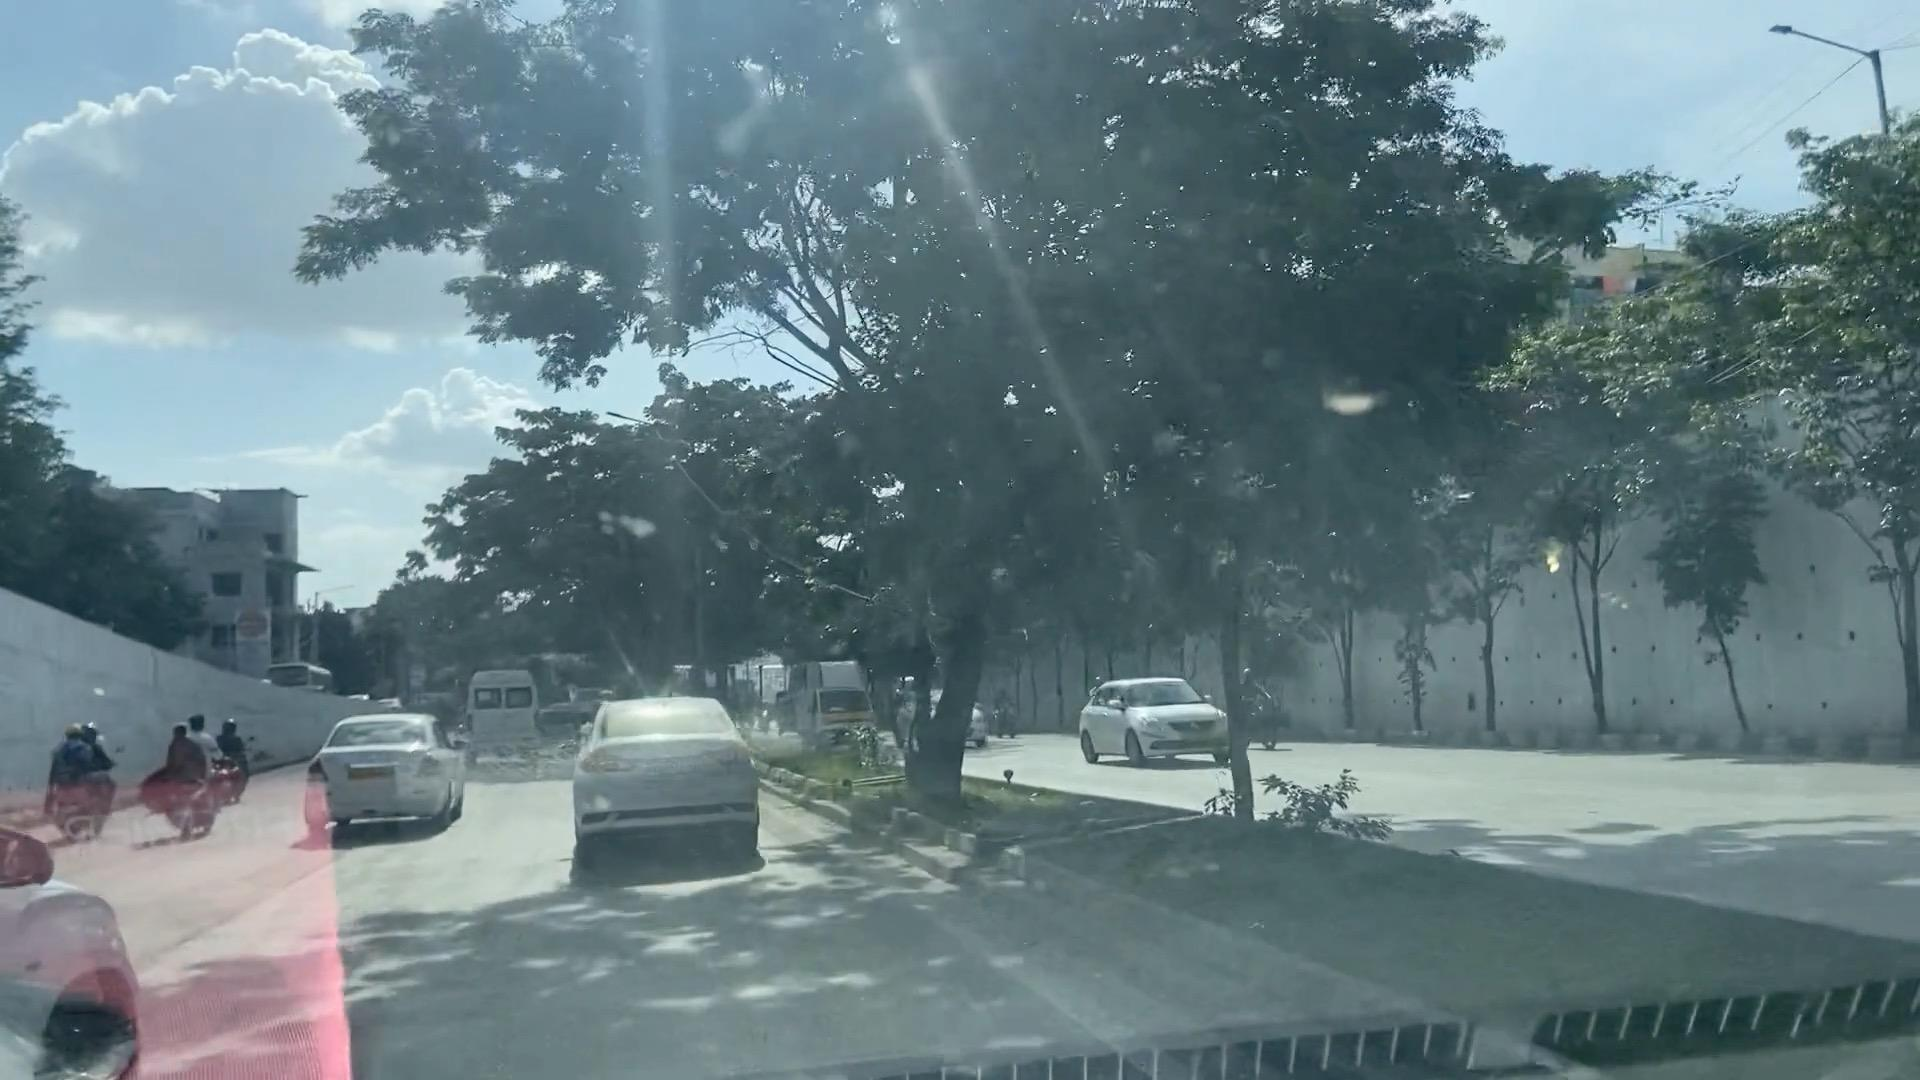LMV: (567, 690, 781, 860), (307, 708, 460, 829)
